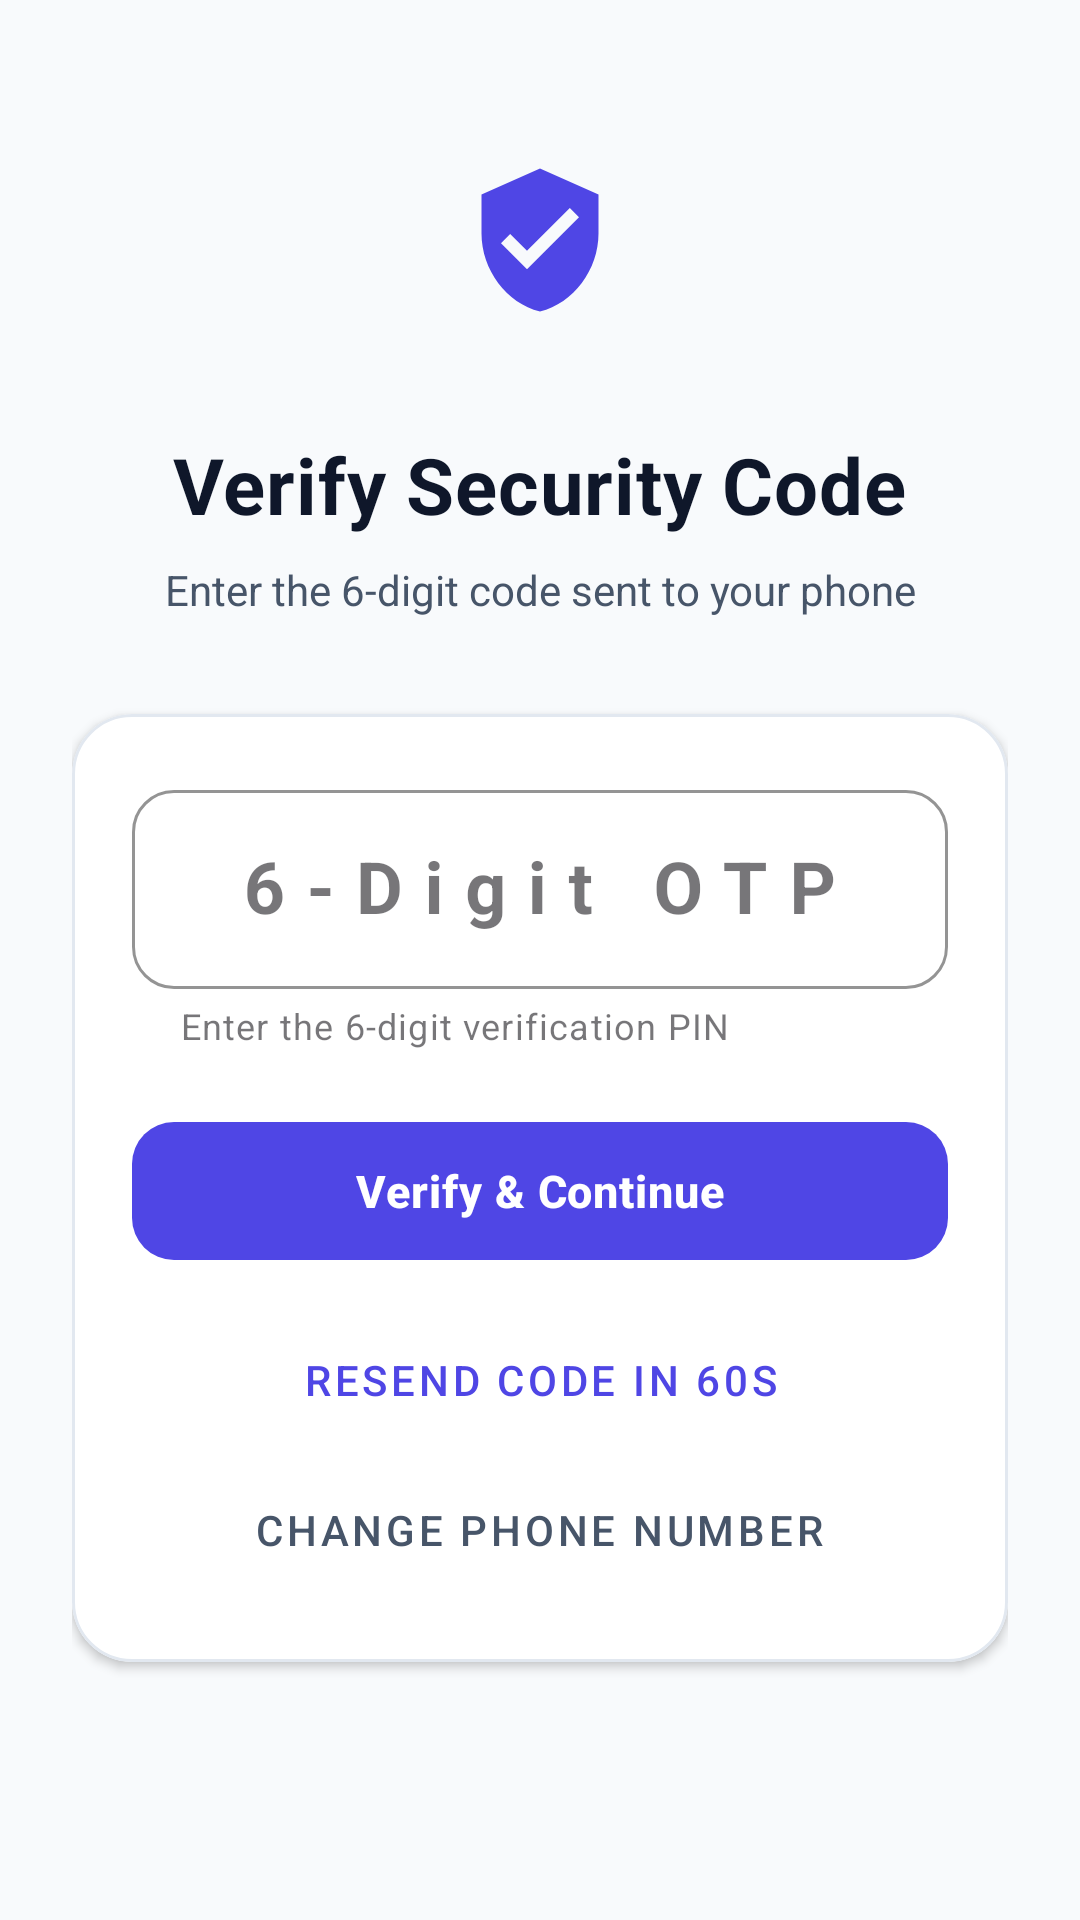

Icons on this 1080×1920 Android screen, each with its box as Rect(x1, y1, x2, y2):
shield check: Rect(481, 168, 599, 312)
